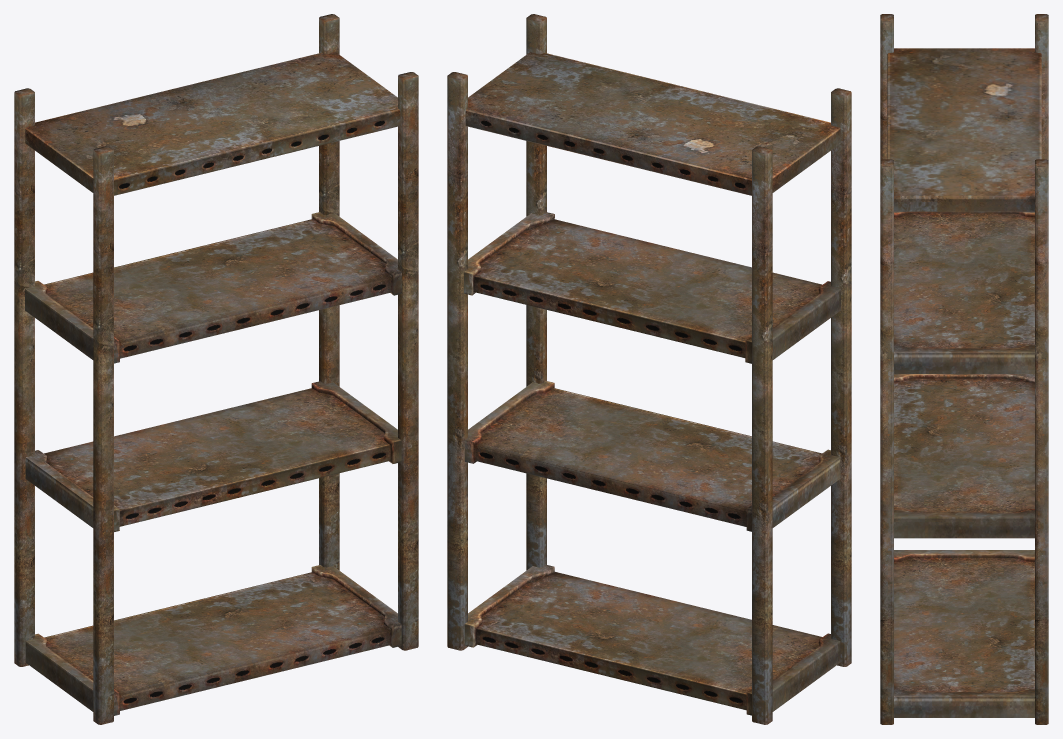
File: shelf_metal_rusty.dae
3 views of the same model, side by side, from view 1: azimuth 30°, elevation 25°; view 2: azimuth 150°, elevation 25°; view 3: azimuth 270°, elevation 25° (orthographic). The views are drawn at different scales.
Visible parts, largest first — view 1: shelf_metal_rusty; view 2: shelf_metal_rusty; view 3: shelf_metal_rusty.
Boxes of the visible parts, x1=… form: shelf_metal_rusty: x1=14, y1=14, x2=418, y2=724; shelf_metal_rusty: x1=447, y1=14, x2=851, y2=724; shelf_metal_rusty: x1=880, y1=14, x2=1048, y2=724.
Bounding box in the file's own units: 140 × 239 × 65.36.
